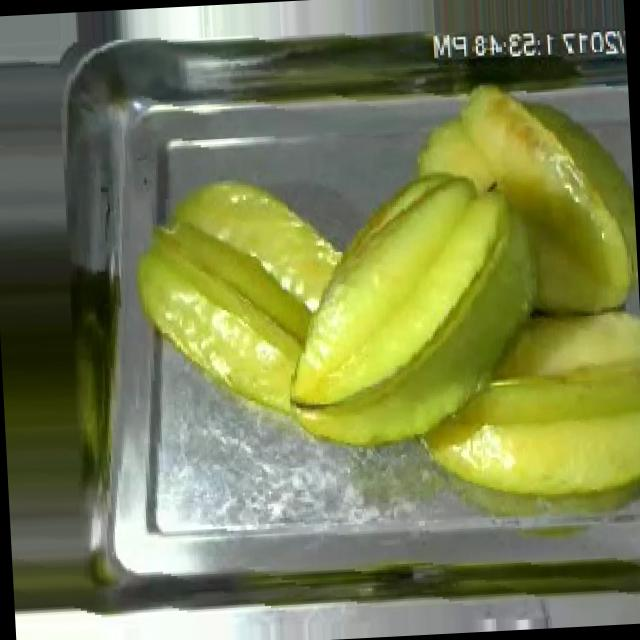fruit: (266, 152, 555, 468), (400, 70, 640, 340), (120, 165, 363, 426), (405, 290, 640, 520)
